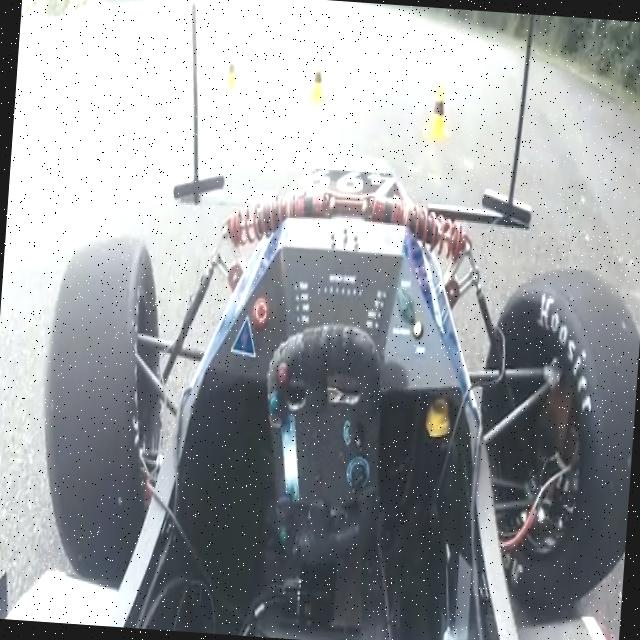yellow_cone: (420, 78, 459, 146), (218, 42, 250, 92), (304, 48, 330, 82)
